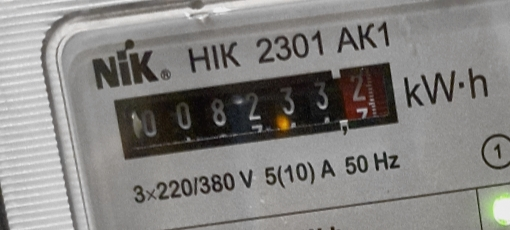0: (137, 106, 162, 141), (173, 100, 196, 133)
2: (241, 90, 266, 125), (348, 71, 369, 105)
3: (278, 85, 299, 118), (313, 79, 333, 112)
8: (208, 95, 230, 129)
screen: (103, 49, 412, 172)
